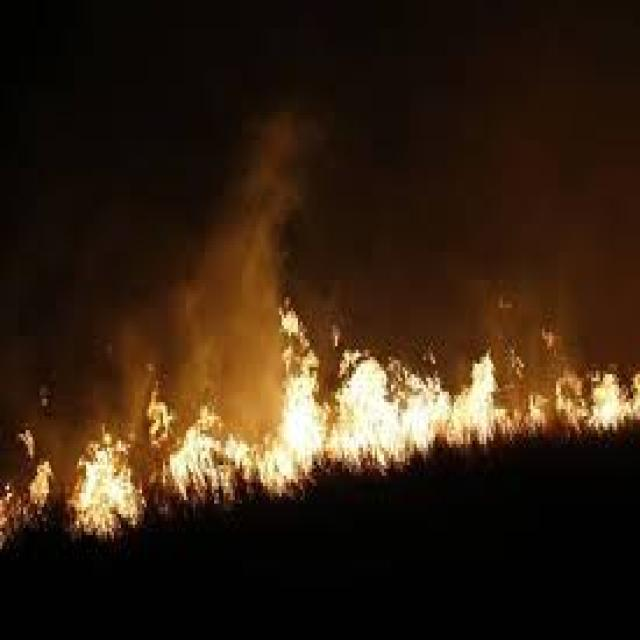Fire: (260, 307, 640, 493), (164, 412, 258, 512), (66, 432, 142, 534), (0, 423, 54, 532)
Smoke: (107, 125, 290, 427)
